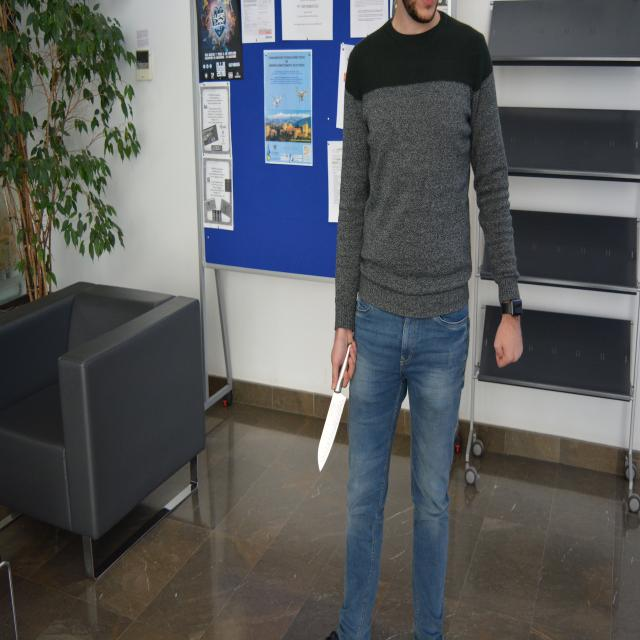knife: (313, 383, 355, 480)
